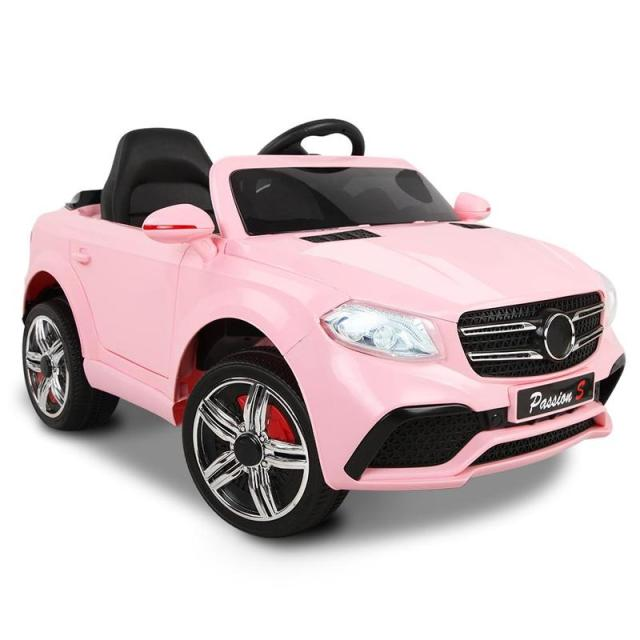Car: (20, 117, 626, 538)
